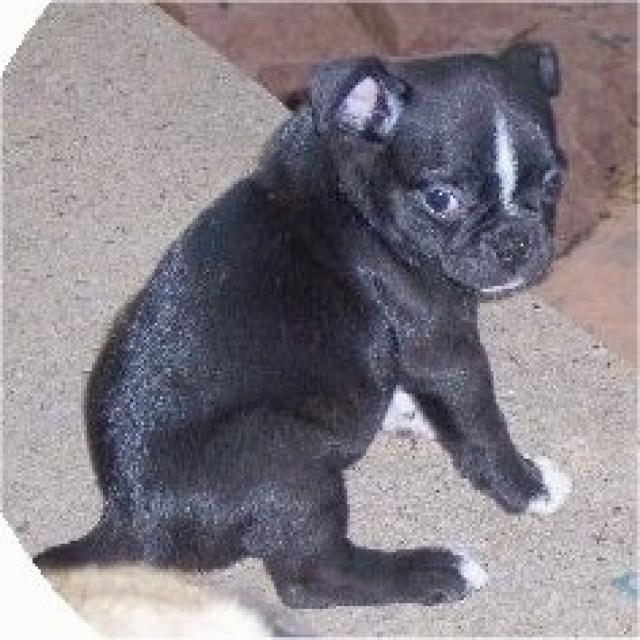dog: (286, 5, 612, 314)
